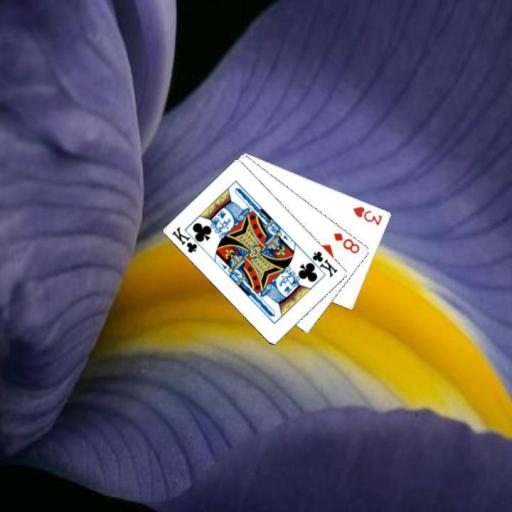3H: (350, 203, 384, 227)
8D: (331, 230, 361, 255)
KC: (169, 224, 206, 255), (304, 248, 339, 279)
